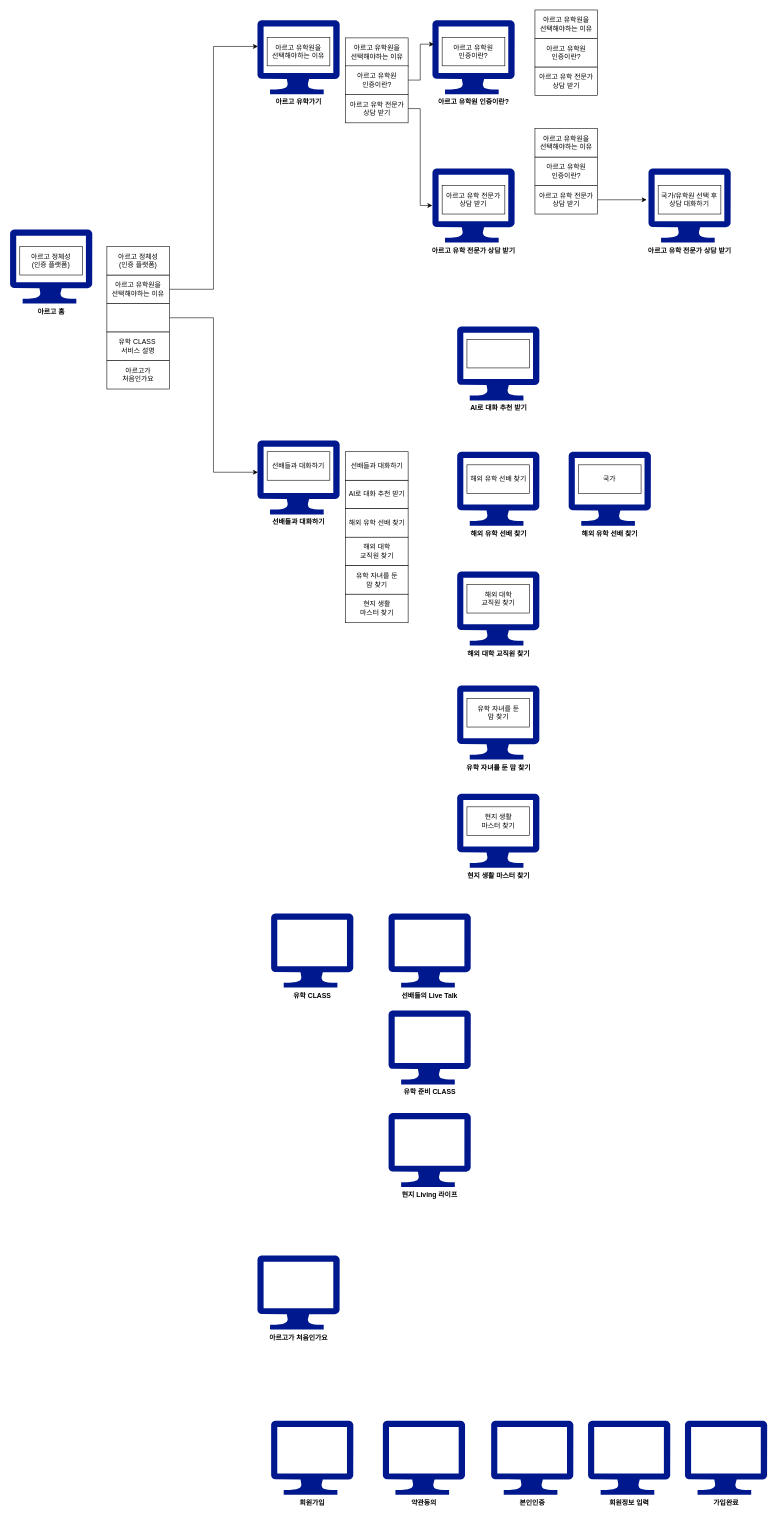
The diagram is 777 pixels wide and 1517 high, and some of its shapes have lost their labels. The centre of each missing label's shape, as x and y in pixels:
AI로 대화 추천받기: point (498, 353)
대화하기 서비스 설명: point (138, 317)
